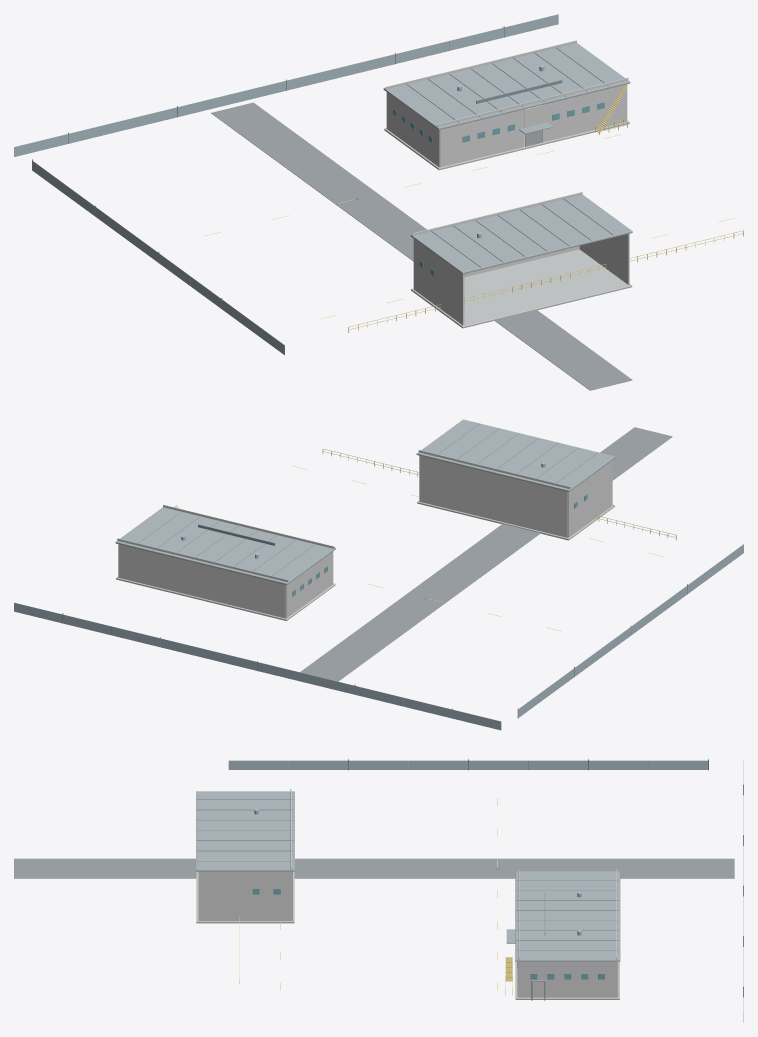
The picture shows the model from 3 angles, top to bottom: view 1: azimuth 30°, elevation 25°; view 2: azimuth 150°, elevation 25°; view 3: azimuth 270°, elevation 25°; orthographic projection. The views are drawn at different scales.
Visible parts, largest first — view 1: render-batch-3, render-batch-7, render-batch-2, render-batch-5, render-batch-6, render-batch-8, render-batch-0; view 2: render-batch-7, render-batch-3, render-batch-2, render-batch-5, render-batch-6; view 3: render-batch-3, render-batch-2, render-batch-7, render-batch-5, render-batch-6.
Boxes of the visible parts, x1,y1,x2,y2 form: render-batch-3: (383, 43, 632, 274); render-batch-7: (385, 40, 629, 325); render-batch-2: (211, 102, 632, 390); render-batch-5: (14, 14, 558, 355); render-batch-6: (384, 120, 632, 328); render-batch-8: (348, 86, 743, 332); render-batch-0: (393, 102, 604, 276); render-batch-7: (117, 450, 612, 618); render-batch-3: (115, 419, 615, 584); render-batch-2: (300, 427, 672, 681); render-batch-5: (14, 462, 743, 730); render-batch-6: (116, 501, 614, 620); render-batch-3: (196, 791, 620, 961); render-batch-2: (14, 858, 734, 878); render-batch-7: (198, 789, 618, 997); render-batch-5: (228, 760, 743, 1022); render-batch-6: (196, 871, 619, 999).
Bounding box in the file's own units: 102 × 10.8 × 125.
